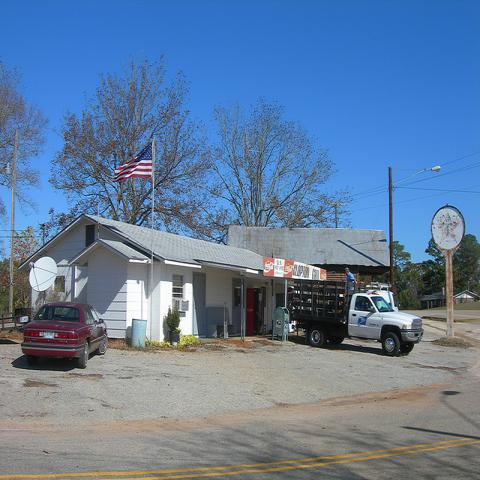car: (21, 302, 107, 369)
truck: (287, 279, 424, 357)
